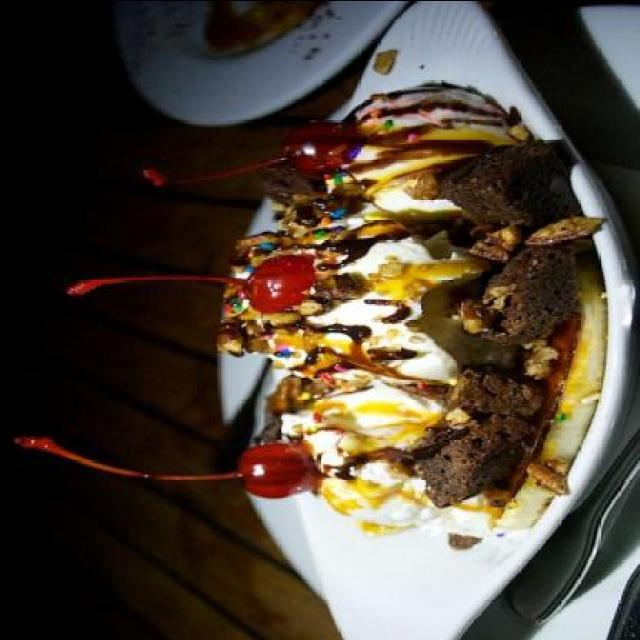Ice cream: (64, 78, 600, 534)
